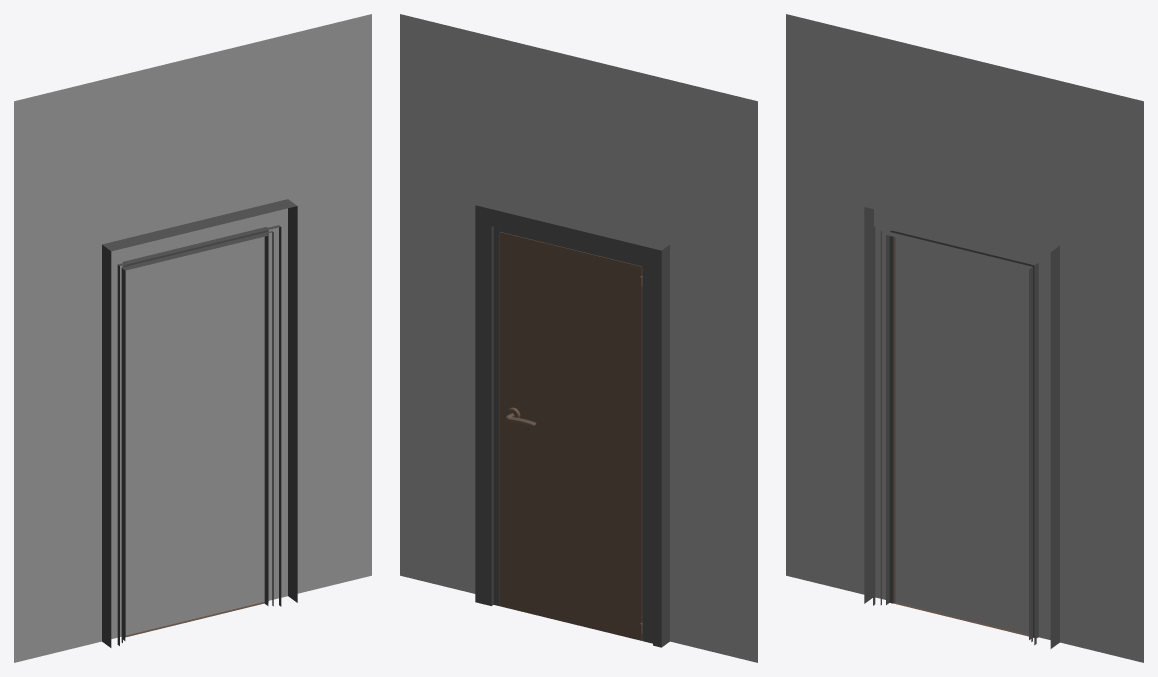
The model's file is 2x3Door.fbx.
3 renders of one model, left to right at view 1: azimuth 30°, elevation 25°; view 2: azimuth 150°, elevation 25°; view 3: azimuth 330°, elevation 25°, orthographic.
Parts seen in each view (by area): view 1: polySurface41; view 2: polySurface41; view 3: polySurface41.
Boxes of the visible parts, bbox=[...] form: polySurface41: bbox=[14, 14, 371, 662]; polySurface41: bbox=[400, 14, 757, 662]; polySurface41: bbox=[786, 14, 1143, 662].
Bounding box in the file's own units: 2 × 3 × 0.2257.
